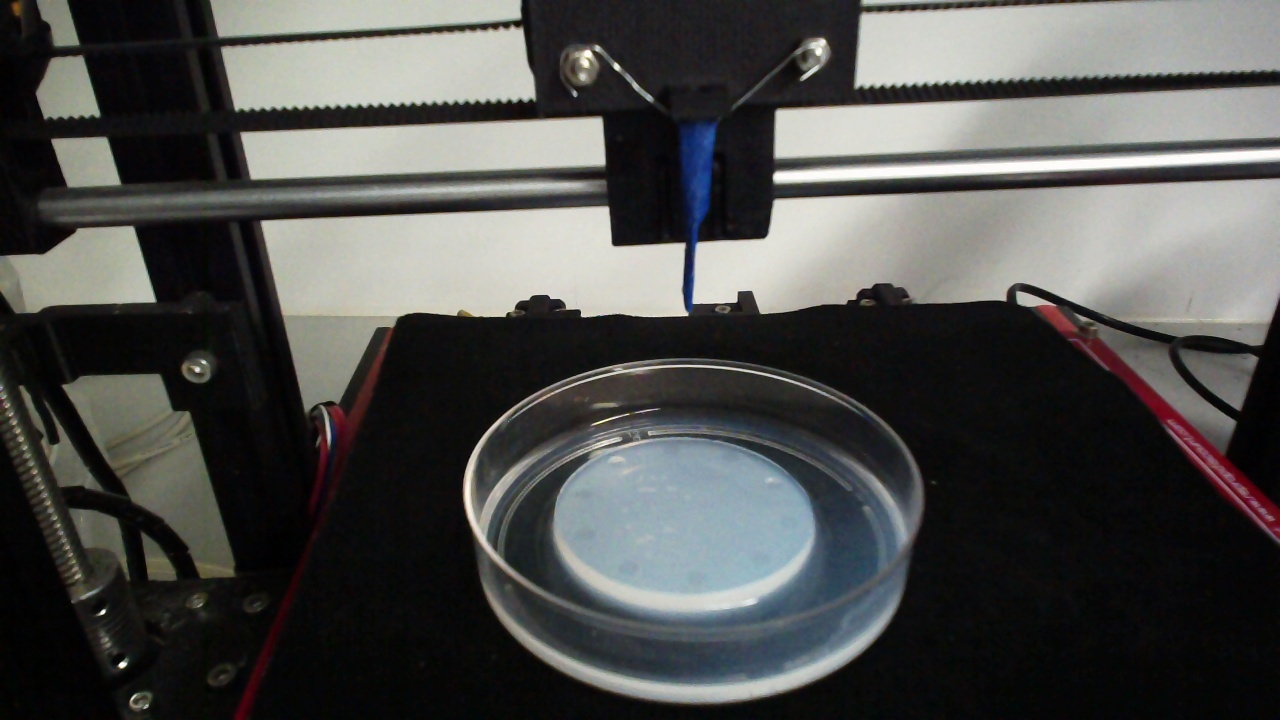groove: (777, 513, 803, 531), (685, 571, 707, 591), (750, 549, 771, 568), (615, 561, 639, 577), (763, 475, 785, 491), (573, 526, 596, 541), (661, 442, 682, 458), (571, 486, 594, 499), (606, 454, 625, 469), (720, 449, 740, 463)
needle: (681, 124, 717, 311)
